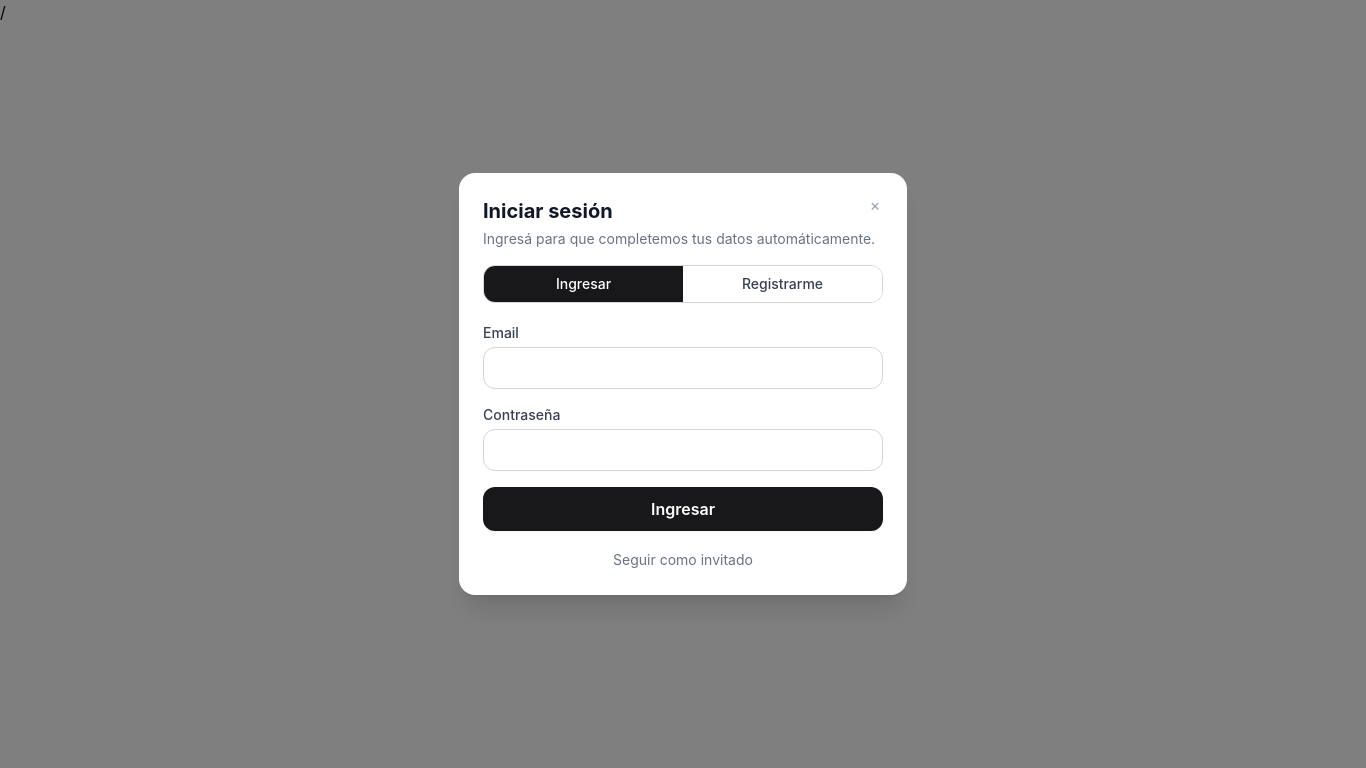
CustomerAuthModal › no deja usar una cuenta de administración en la web
Type "admin@restoit.com" into the field labelled "Email" at {"x": 683, "y": 368}, box [483, 347, 883, 389]
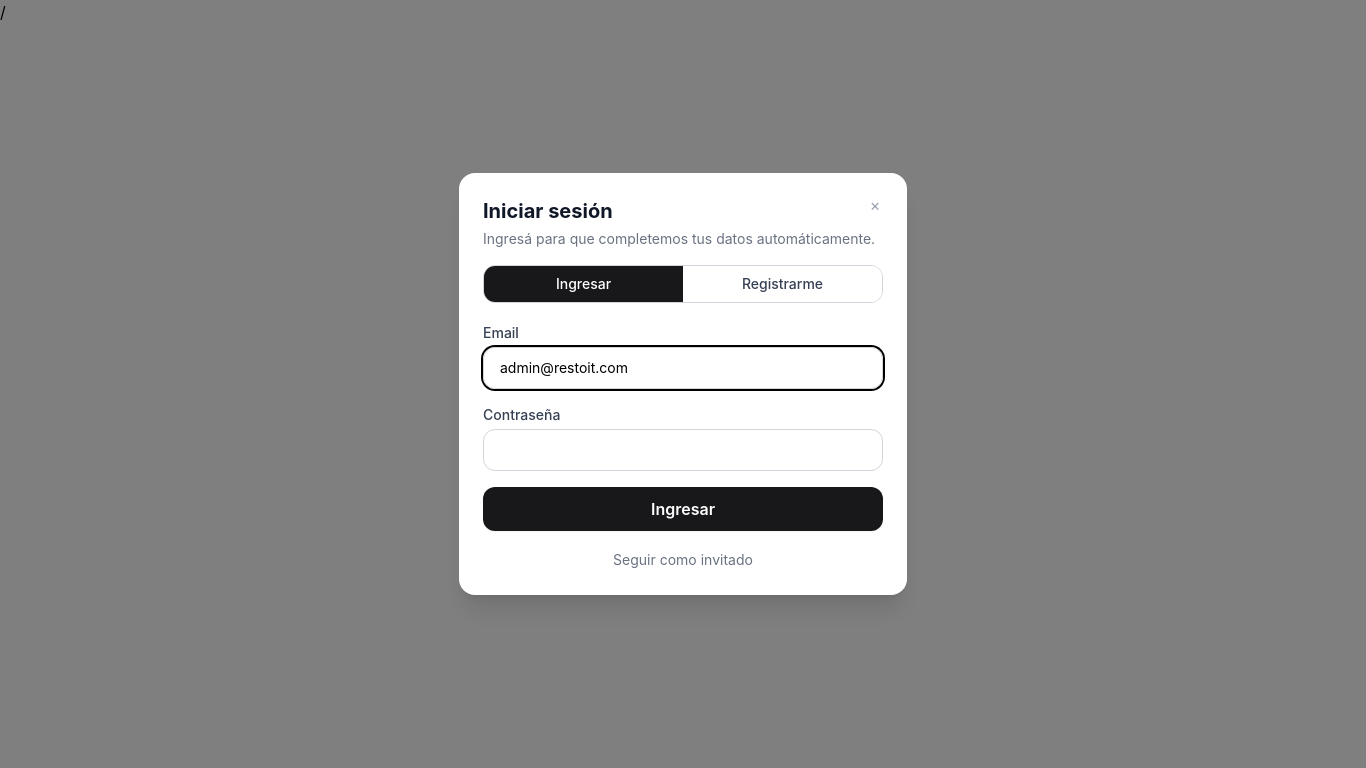
Type "clave" into the password field labelled "Contraseña" at {"x": 683, "y": 450}, box [483, 429, 883, 471]
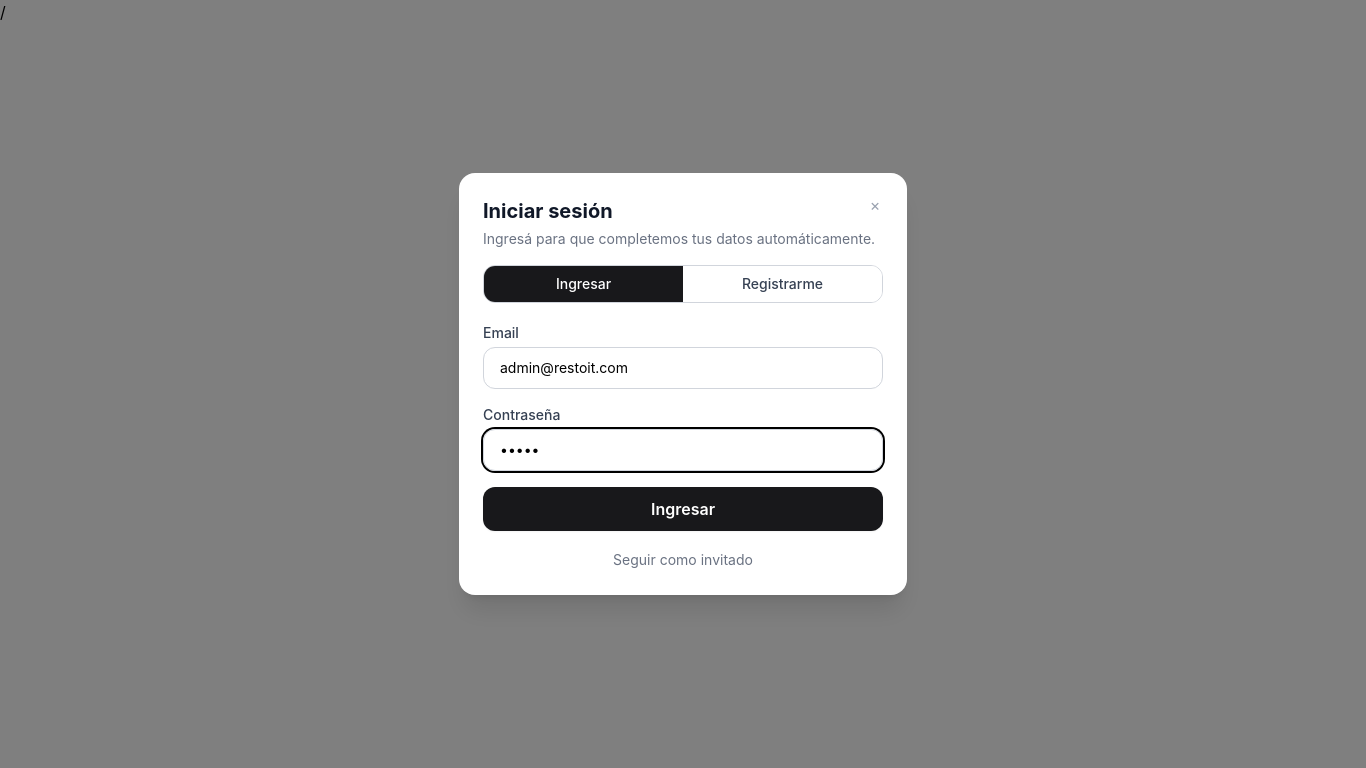
Click the button "Ingresar" below "Contraseña" at {"x": 683, "y": 509}, box [483, 487, 883, 531]
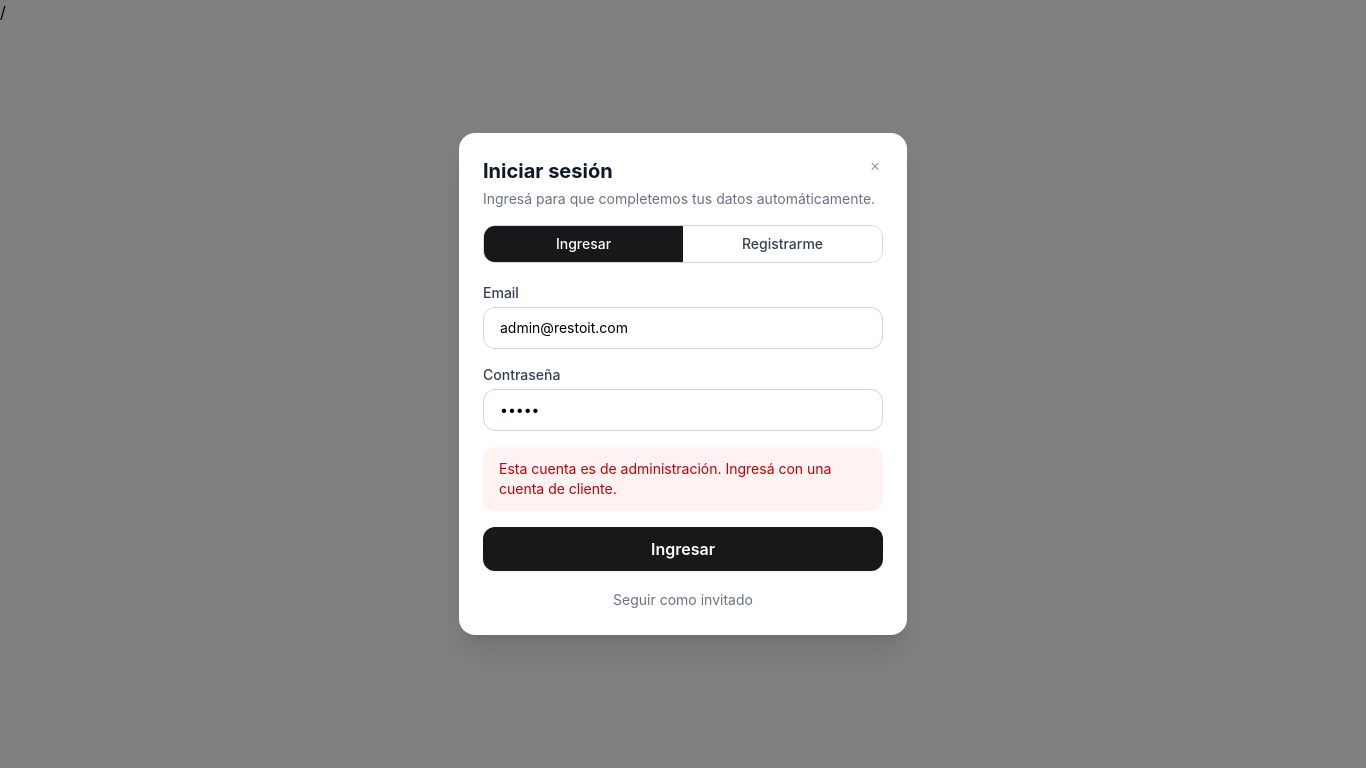
Expected: the message shows "Esta cuenta es de administración", [499, 460, 832, 497]
